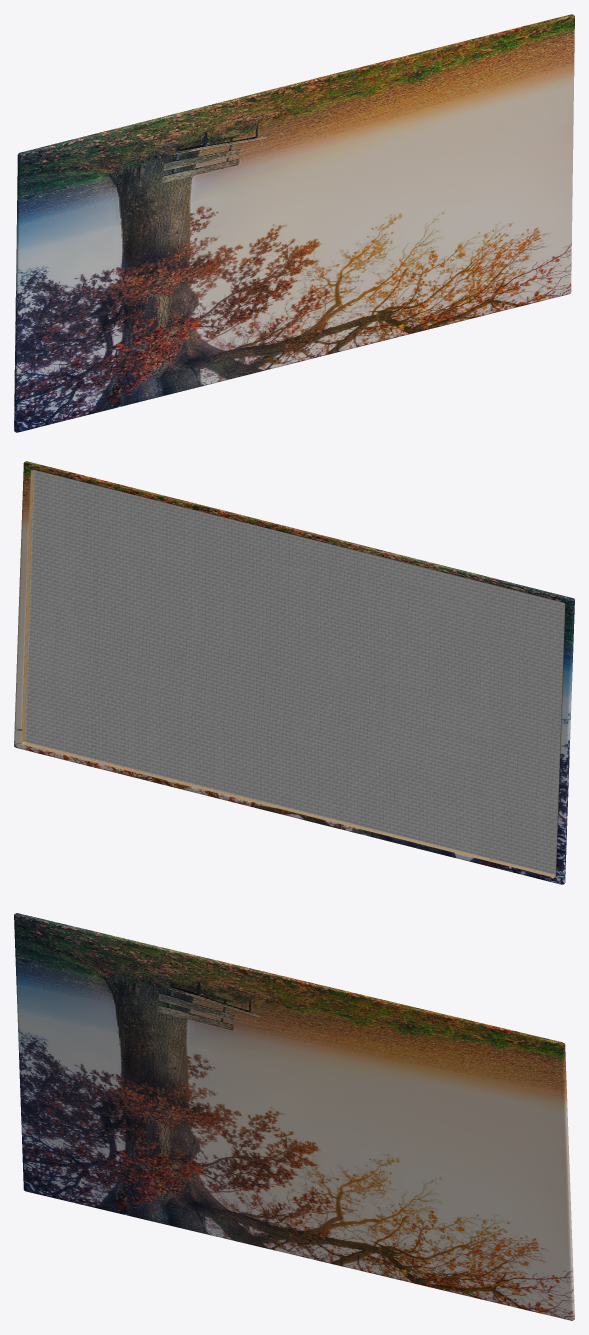
The model's file is canvas_panoramic_stoc.glb.
3 renders of one model, top to bottom at view 1: azimuth 30°, elevation 25°; view 2: azimuth 150°, elevation 25°; view 3: azimuth 330°, elevation 25°, orthographic.
Parts seen in each view (by area): view 1: node_id9; view 2: node_id15, node_id9; view 3: node_id9.
Boxes of the visible parts, x1,y1,x2,y2 form: node_id9: (14, 14, 574, 432); node_id15: (21, 469, 565, 877); node_id9: (14, 461, 574, 884); node_id9: (14, 913, 574, 1320).
Bounding box in the file's own units: 0.7845 × 0.3869 × 0.0223.
Materials: 2 (2 with a texture image).
